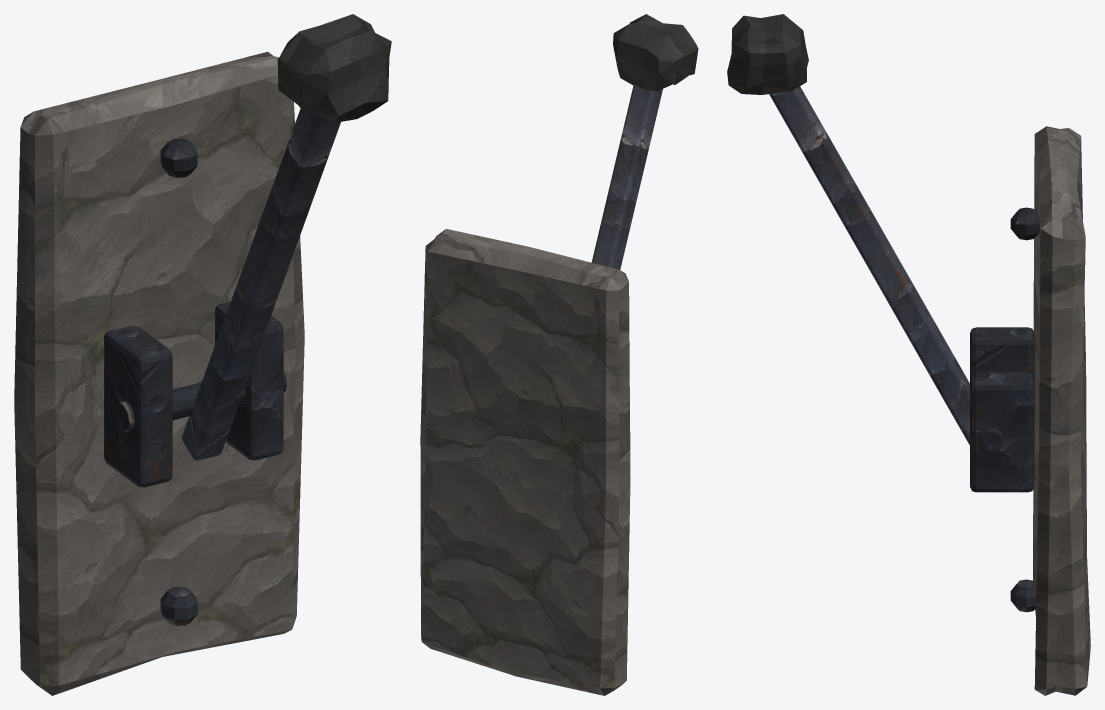
The model's file is lever_iron.glb.
The picture shows the model from 3 angles, left to right: view 1: azimuth 30°, elevation 25°; view 2: azimuth 150°, elevation 25°; view 3: azimuth 270°, elevation 25°; orthographic projection. The views are drawn at different scales.
Parts seen in each view (by area): view 1: base, handle; view 2: base, handle; view 3: base, handle.
Boxes of the visible parts, x1,y1,x2,y2 form: base: [14, 51, 304, 695]; handle: [182, 14, 391, 460]; base: [420, 229, 630, 695]; handle: [591, 14, 698, 269]; base: [970, 126, 1090, 695]; handle: [727, 14, 969, 445].
Size of the model in its own units: 0.3511 by 0.9197 by 0.4786.
Materials: 4 (4 with a texture image).
